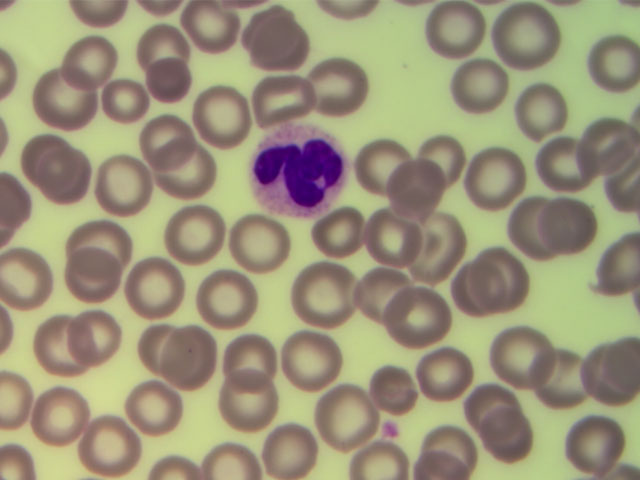Platelets: (379, 418, 398, 437)
RBC: (245, 122, 345, 214), (584, 31, 640, 93), (260, 424, 319, 480), (424, 424, 483, 480), (61, 35, 120, 90), (37, 72, 96, 127), (96, 77, 155, 132), (139, 49, 198, 104), (141, 19, 200, 74), (188, 8, 247, 63), (246, 8, 305, 63), (261, 24, 320, 79), (311, 53, 370, 108), (254, 67, 313, 122), (196, 88, 255, 143), (136, 108, 195, 163), (153, 143, 212, 198), (86, 157, 145, 212), (37, 151, 96, 206), (18, 127, 77, 182), (64, 209, 123, 264), (65, 242, 124, 297), (70, 307, 129, 362), (31, 317, 90, 372), (23, 393, 82, 448), (80, 418, 139, 473), (115, 389, 174, 444), (160, 337, 219, 392), (137, 325, 196, 380), (125, 261, 184, 316), (166, 206, 225, 261), (228, 214, 287, 269), (200, 274, 259, 329), (220, 329, 279, 384), (221, 379, 280, 434), (315, 392, 374, 447), (283, 331, 342, 386), (295, 261, 354, 316), (308, 203, 367, 258), (357, 212, 416, 267), (395, 162, 454, 217), (404, 135, 463, 190), (354, 135, 413, 190), (446, 64, 505, 119), (425, 3, 484, 58), (500, 11, 559, 66), (515, 86, 574, 141), (536, 144, 595, 199), (470, 151, 529, 206), (505, 197, 564, 252), (541, 201, 600, 256), (479, 257, 538, 312), (449, 255, 508, 310), (404, 209, 463, 264), (387, 284, 446, 339), (356, 266, 415, 321), (370, 353, 429, 408), (414, 347, 473, 402), (469, 377, 528, 432), (483, 400, 542, 455), (492, 329, 551, 384), (533, 350, 592, 405), (581, 349, 640, 404), (557, 415, 616, 470), (581, 125, 640, 180), (1, 251, 59, 306)
